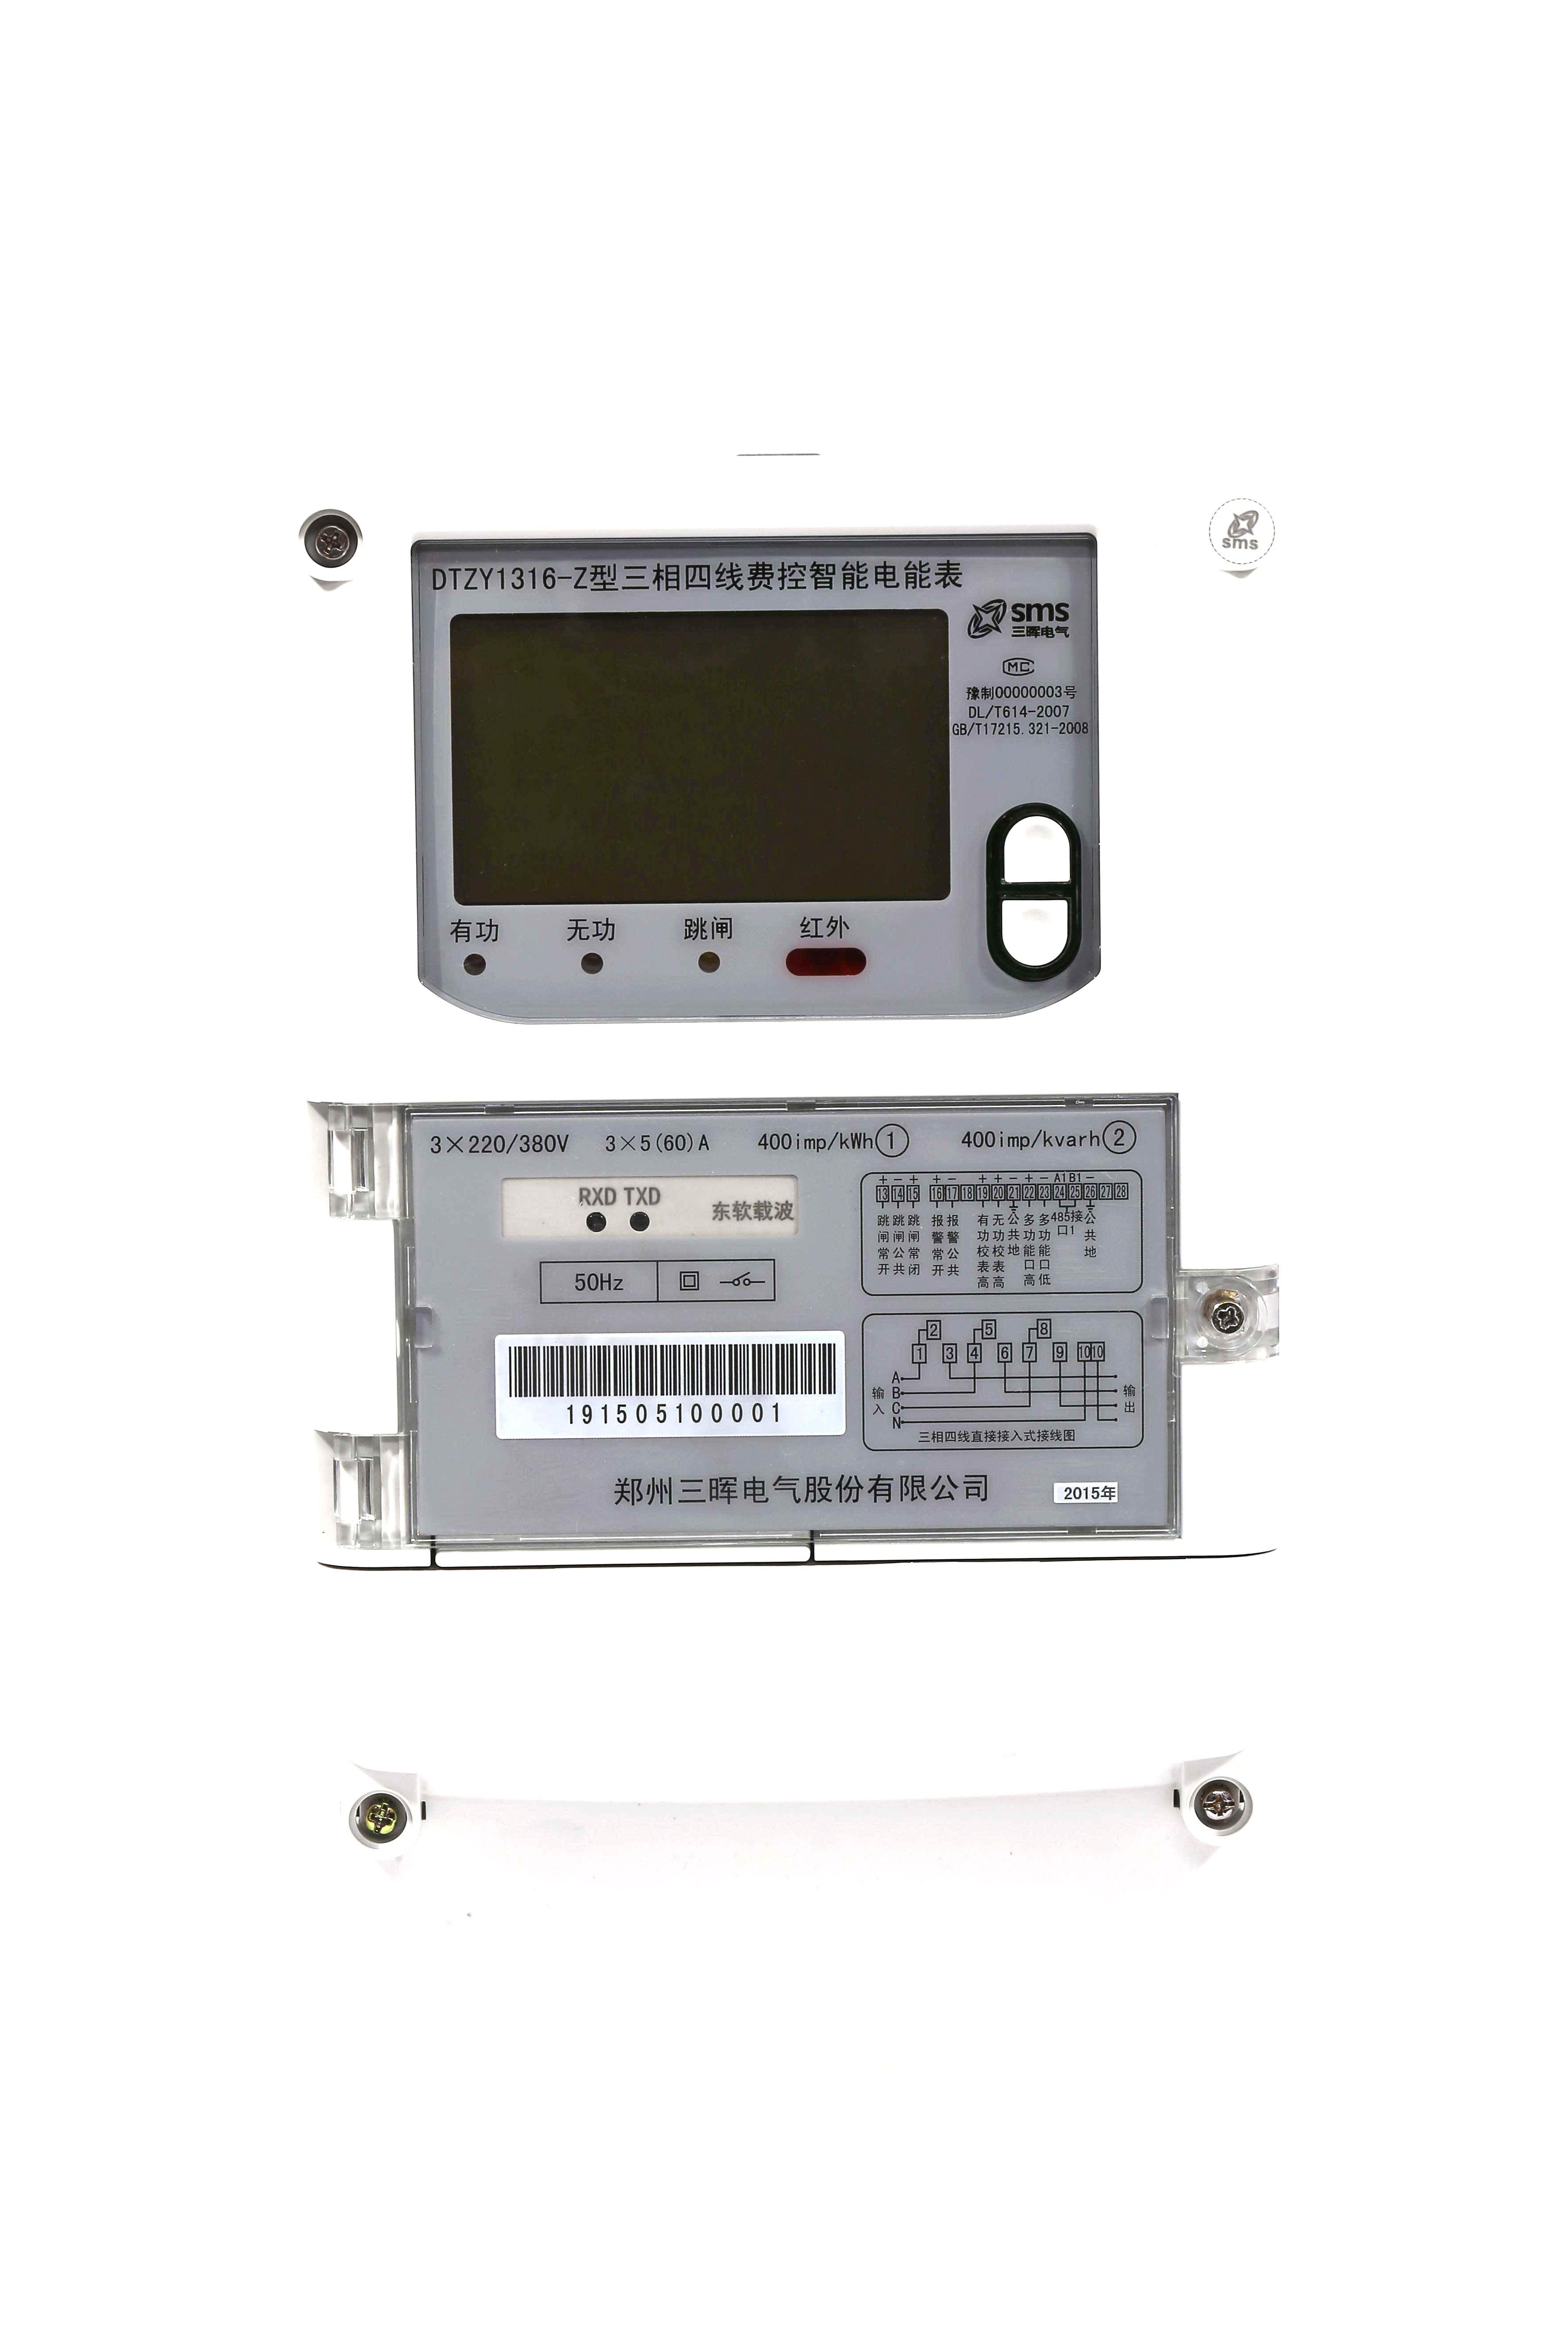digital: (285, 469, 1269, 1795)
